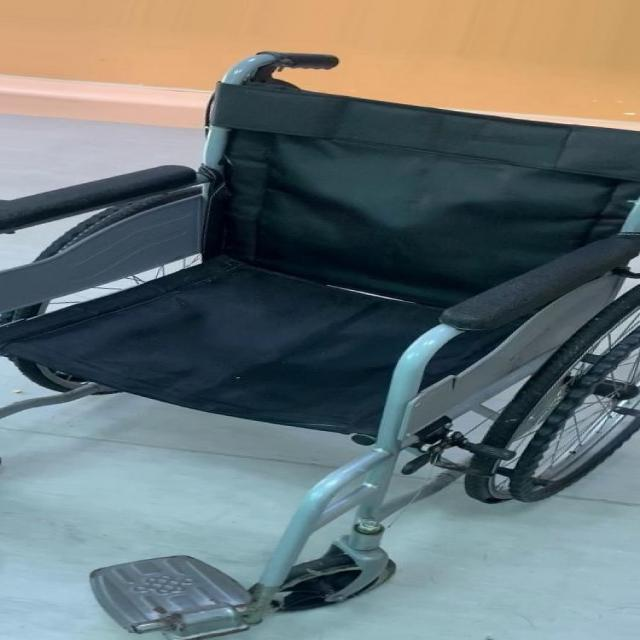wheelchair: (1, 34, 640, 640)
